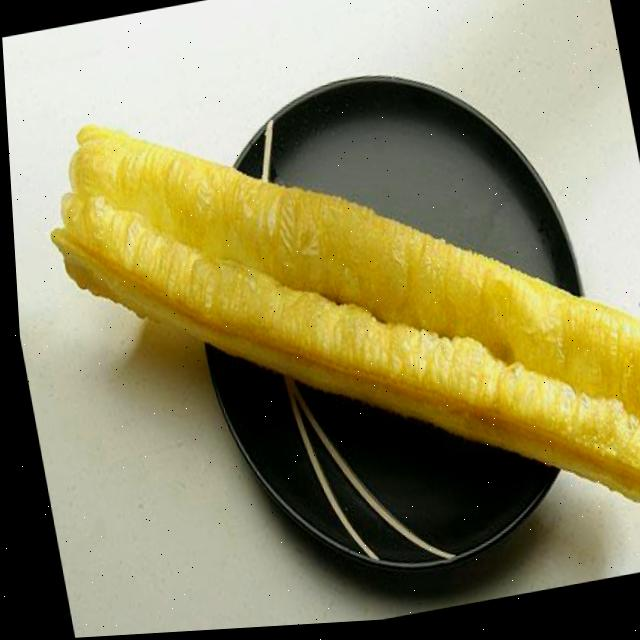炸货点心: (31, 28, 640, 623)
